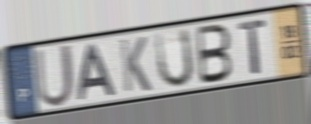A: (76, 42, 119, 103)
B: (195, 22, 234, 87)
K: (118, 35, 153, 95)
T: (237, 17, 269, 77)
U: (33, 42, 77, 110), (153, 25, 196, 90)
